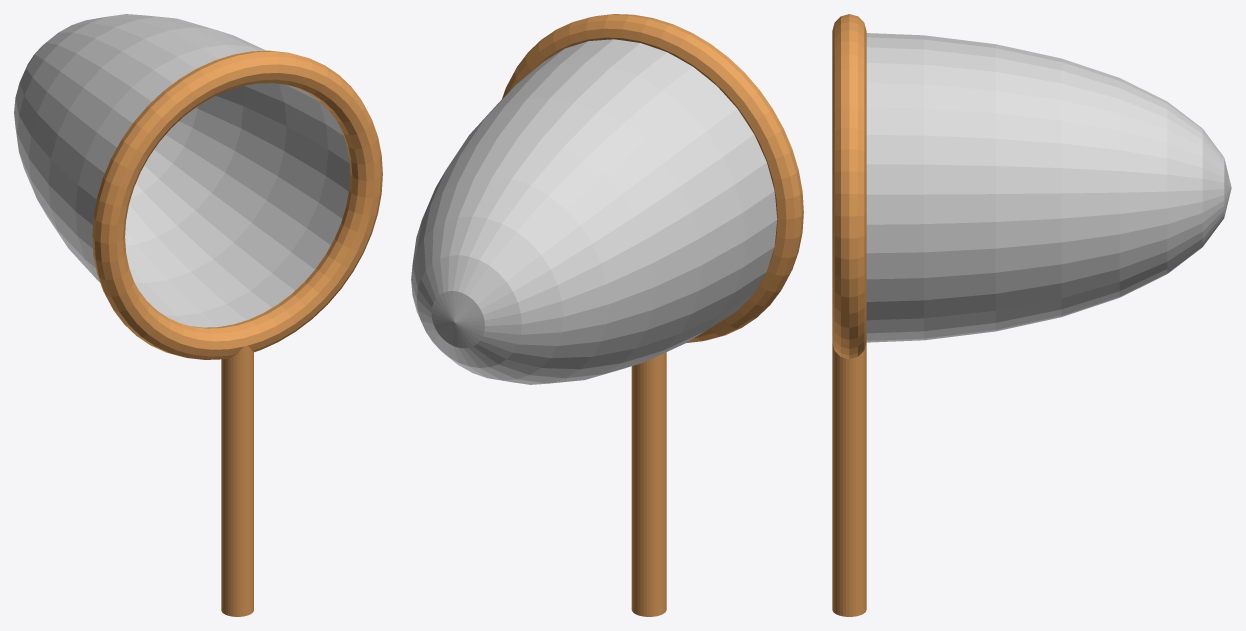
File: net.fbx
3 renders of one model, left to right at view 1: azimuth 30°, elevation 25°; view 2: azimuth 150°, elevation 25°; view 3: azimuth 270°, elevation 25°, orthographic. The views are drawn at different scales.
Visible parts, largest first — view 1: net, structure; view 2: net, structure; view 3: net, structure.
Part boxes in pixels (<box>): net: <box>14,14,350,327</box>; structure: <box>92,50,382,616</box>; net: <box>411,39,777,384</box>; structure: <box>502,14,803,616</box>; net: <box>866,33,1231,342</box>; structure: <box>832,14,866,616</box>.
Size of the model in its own units: 222 by 411 by 257.
